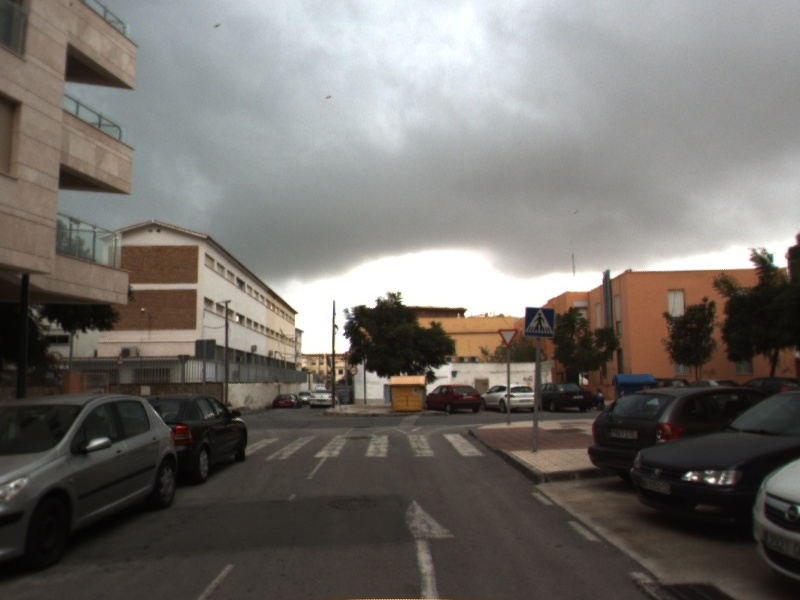STRAIGHT: (400, 496, 460, 600)
